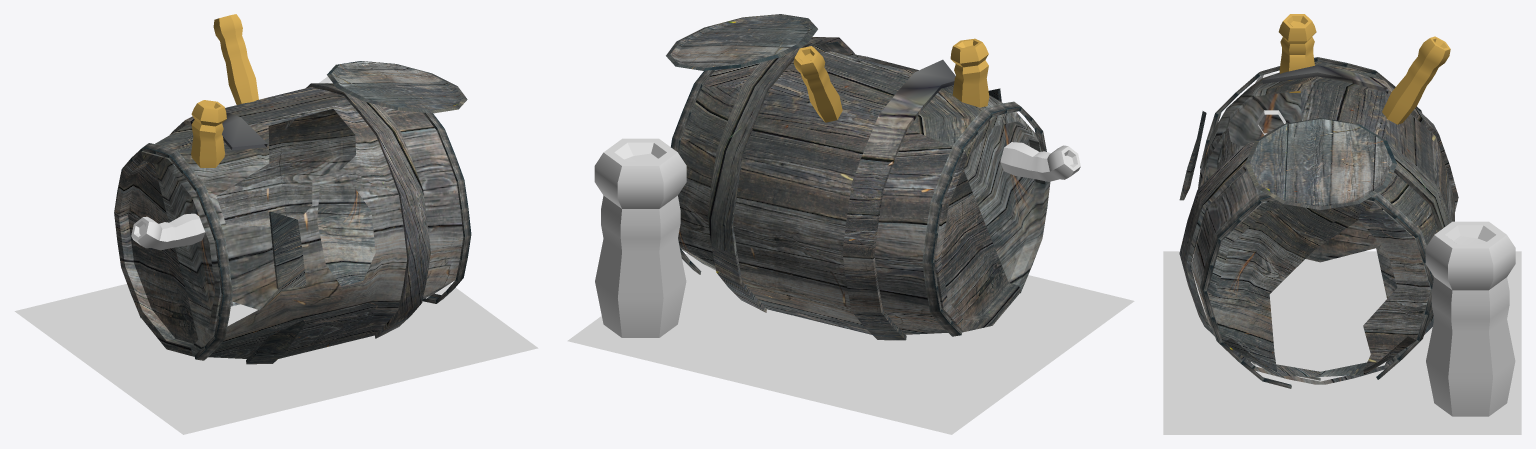
Rendered from Barril.fbx.
3 views of the same model, side by side, from view 1: azimuth 30°, elevation 25°; view 2: azimuth 150°, elevation 25°; view 3: azimuth 270°, elevation 25° (orthographic). The views are drawn at different scales.
Parts seen in each view (by area): view 1: barril; view 2: barril; view 3: barril.
Part boxes in pixels (<box>): barril: <box>14,14,538,434</box>; barril: <box>567,14,1134,434</box>; barril: <box>1163,14,1521,434</box>.
Size of the model in its own units: 320 by 251 by 264.
